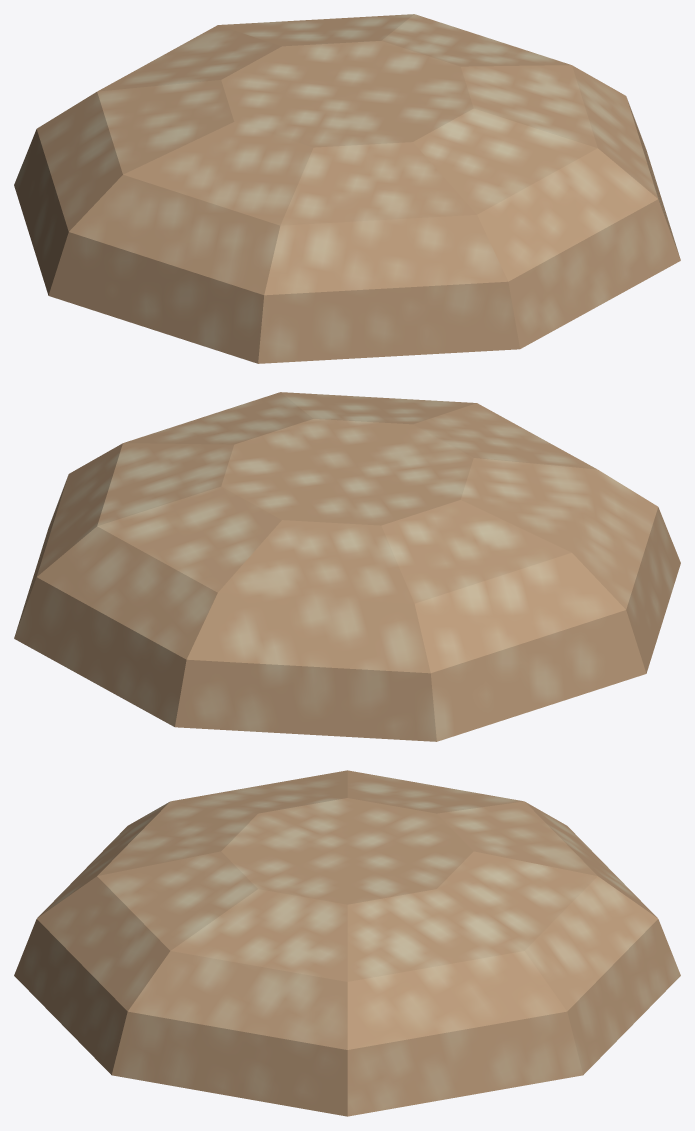
Rendered from ING_burgerBun_TopV02.fbx.
3 views of the same model, one above another, from view 1: azimuth 30°, elevation 25°; view 2: azimuth 150°, elevation 25°; view 3: azimuth 270°, elevation 25° (orthographic). The views are drawn at different scales.
Parts seen in each view (by area): view 1: bun_top; view 2: bun_top; view 3: bun_top.
Boxes of the visible parts, x1=… form: bun_top: x1=14, y1=14, x2=680, y2=363; bun_top: x1=14, y1=392, x2=680, y2=741; bun_top: x1=14, y1=770, x2=680, y2=1116.
Size of the model in its own units: 30.08 by 6.19 by 30.08.
